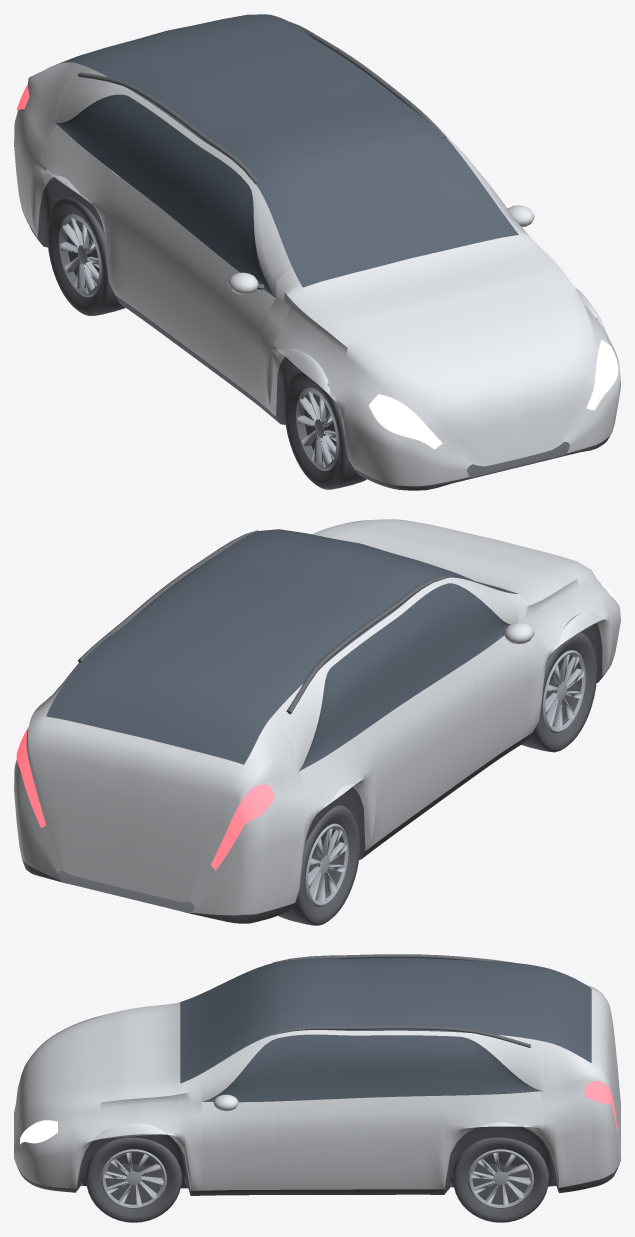
Rendered from tesla_fsd_suv.glb.
The picture shows the model from 3 angles, top to bottom: view 1: azimuth 30°, elevation 25°; view 2: azimuth 150°, elevation 25°; view 3: azimuth 270°, elevation 25°; orthographic projection. The views are drawn at different scales.
Parts seen in each view (by area): view 1: TeslaFSDSUV; view 2: TeslaFSDSUV; view 3: TeslaFSDSUV.
Part boxes in pixels (<box>): TeslaFSDSUV: <box>14,14,620,490</box>; TeslaFSDSUV: <box>14,519,620,925</box>; TeslaFSDSUV: <box>14,954,620,1222</box>.
Bounding box in the file's own units: 2.12 × 1.67 × 4.78.
